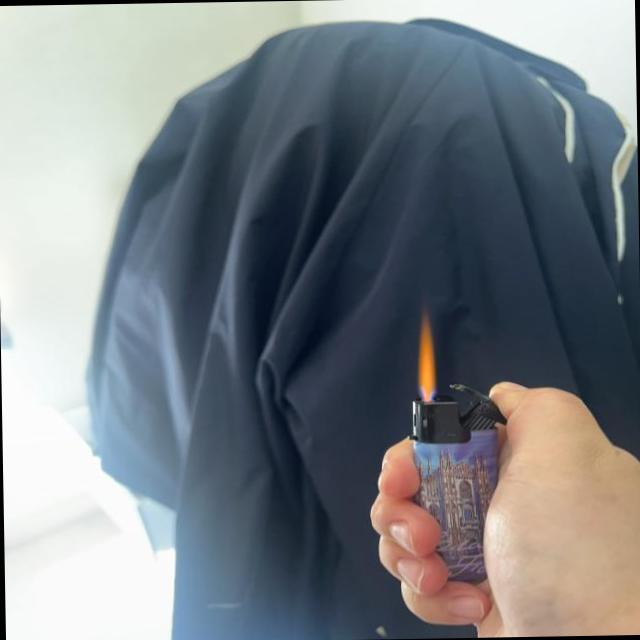Fire: (416, 318, 440, 394)
